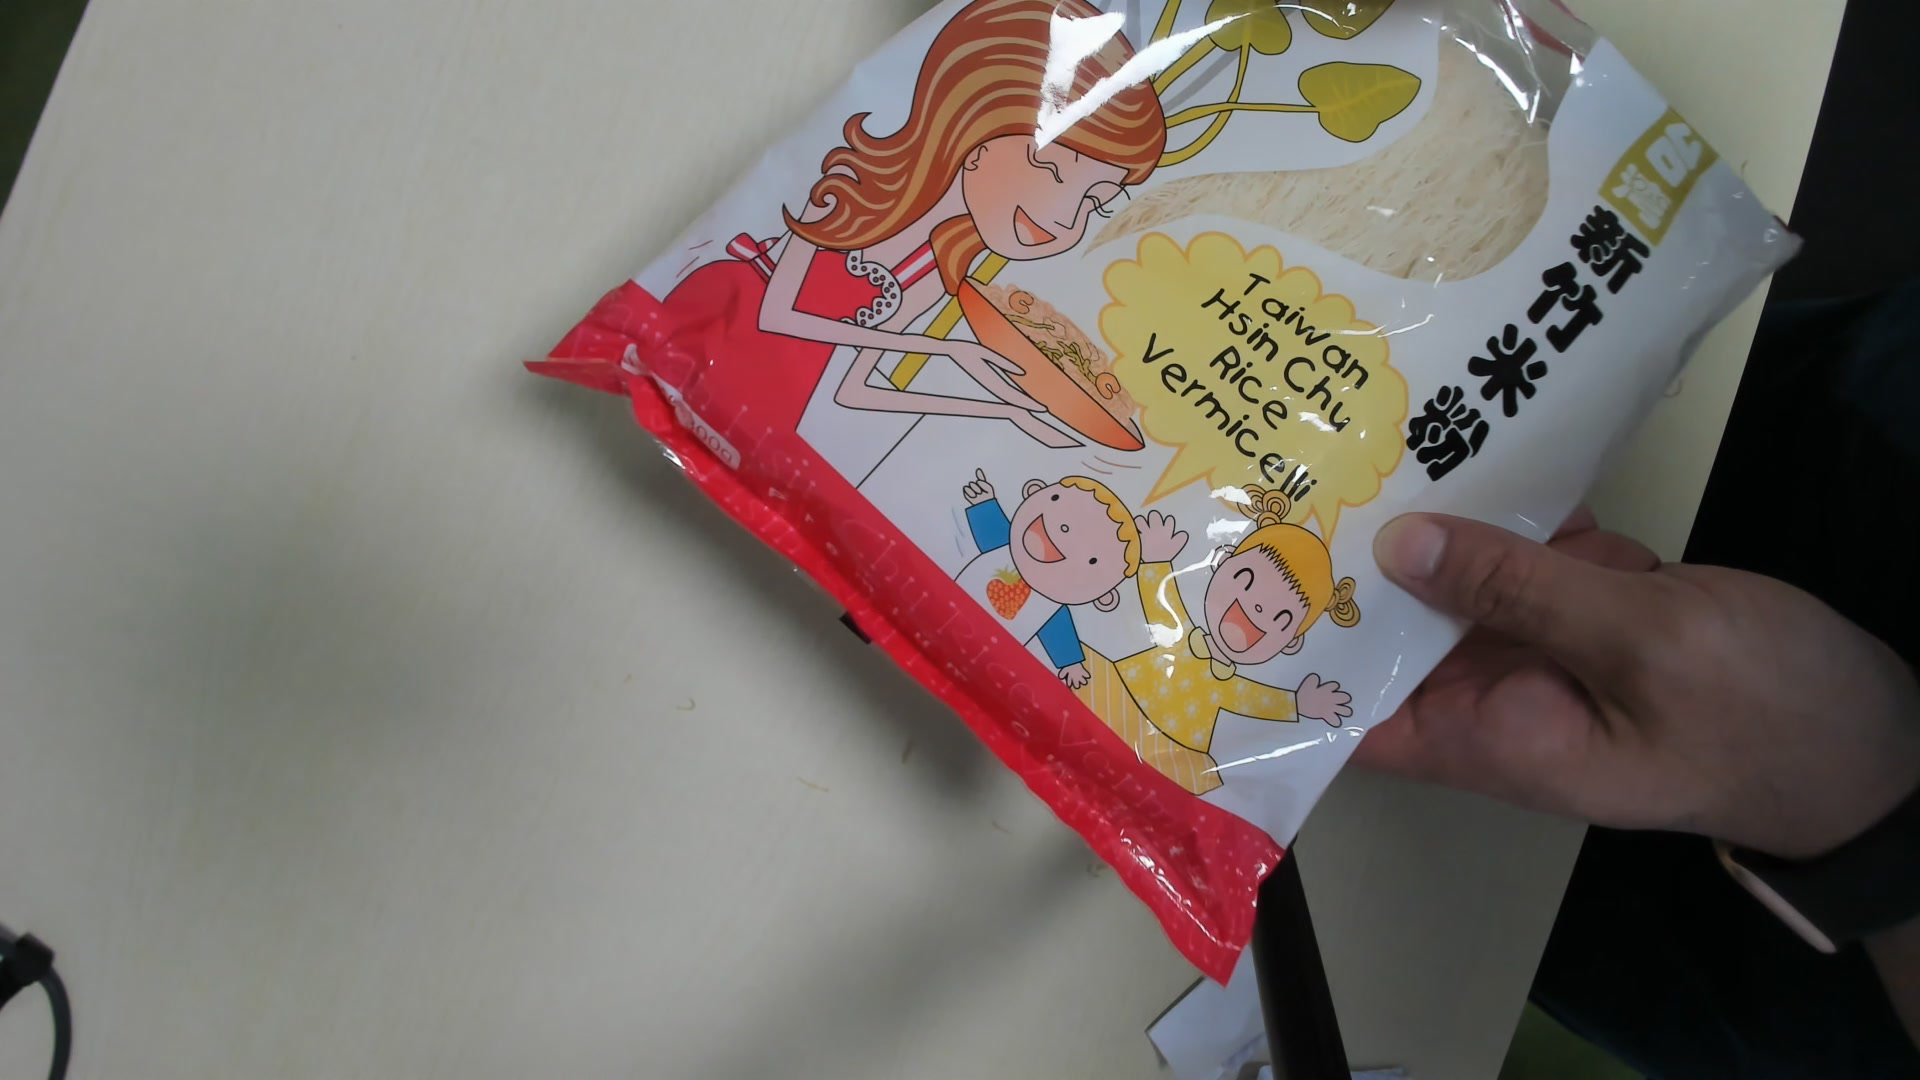BeeHoonVermicelli_0-99g_NonHalal_NonHealthy: (534, 7, 1778, 949)
